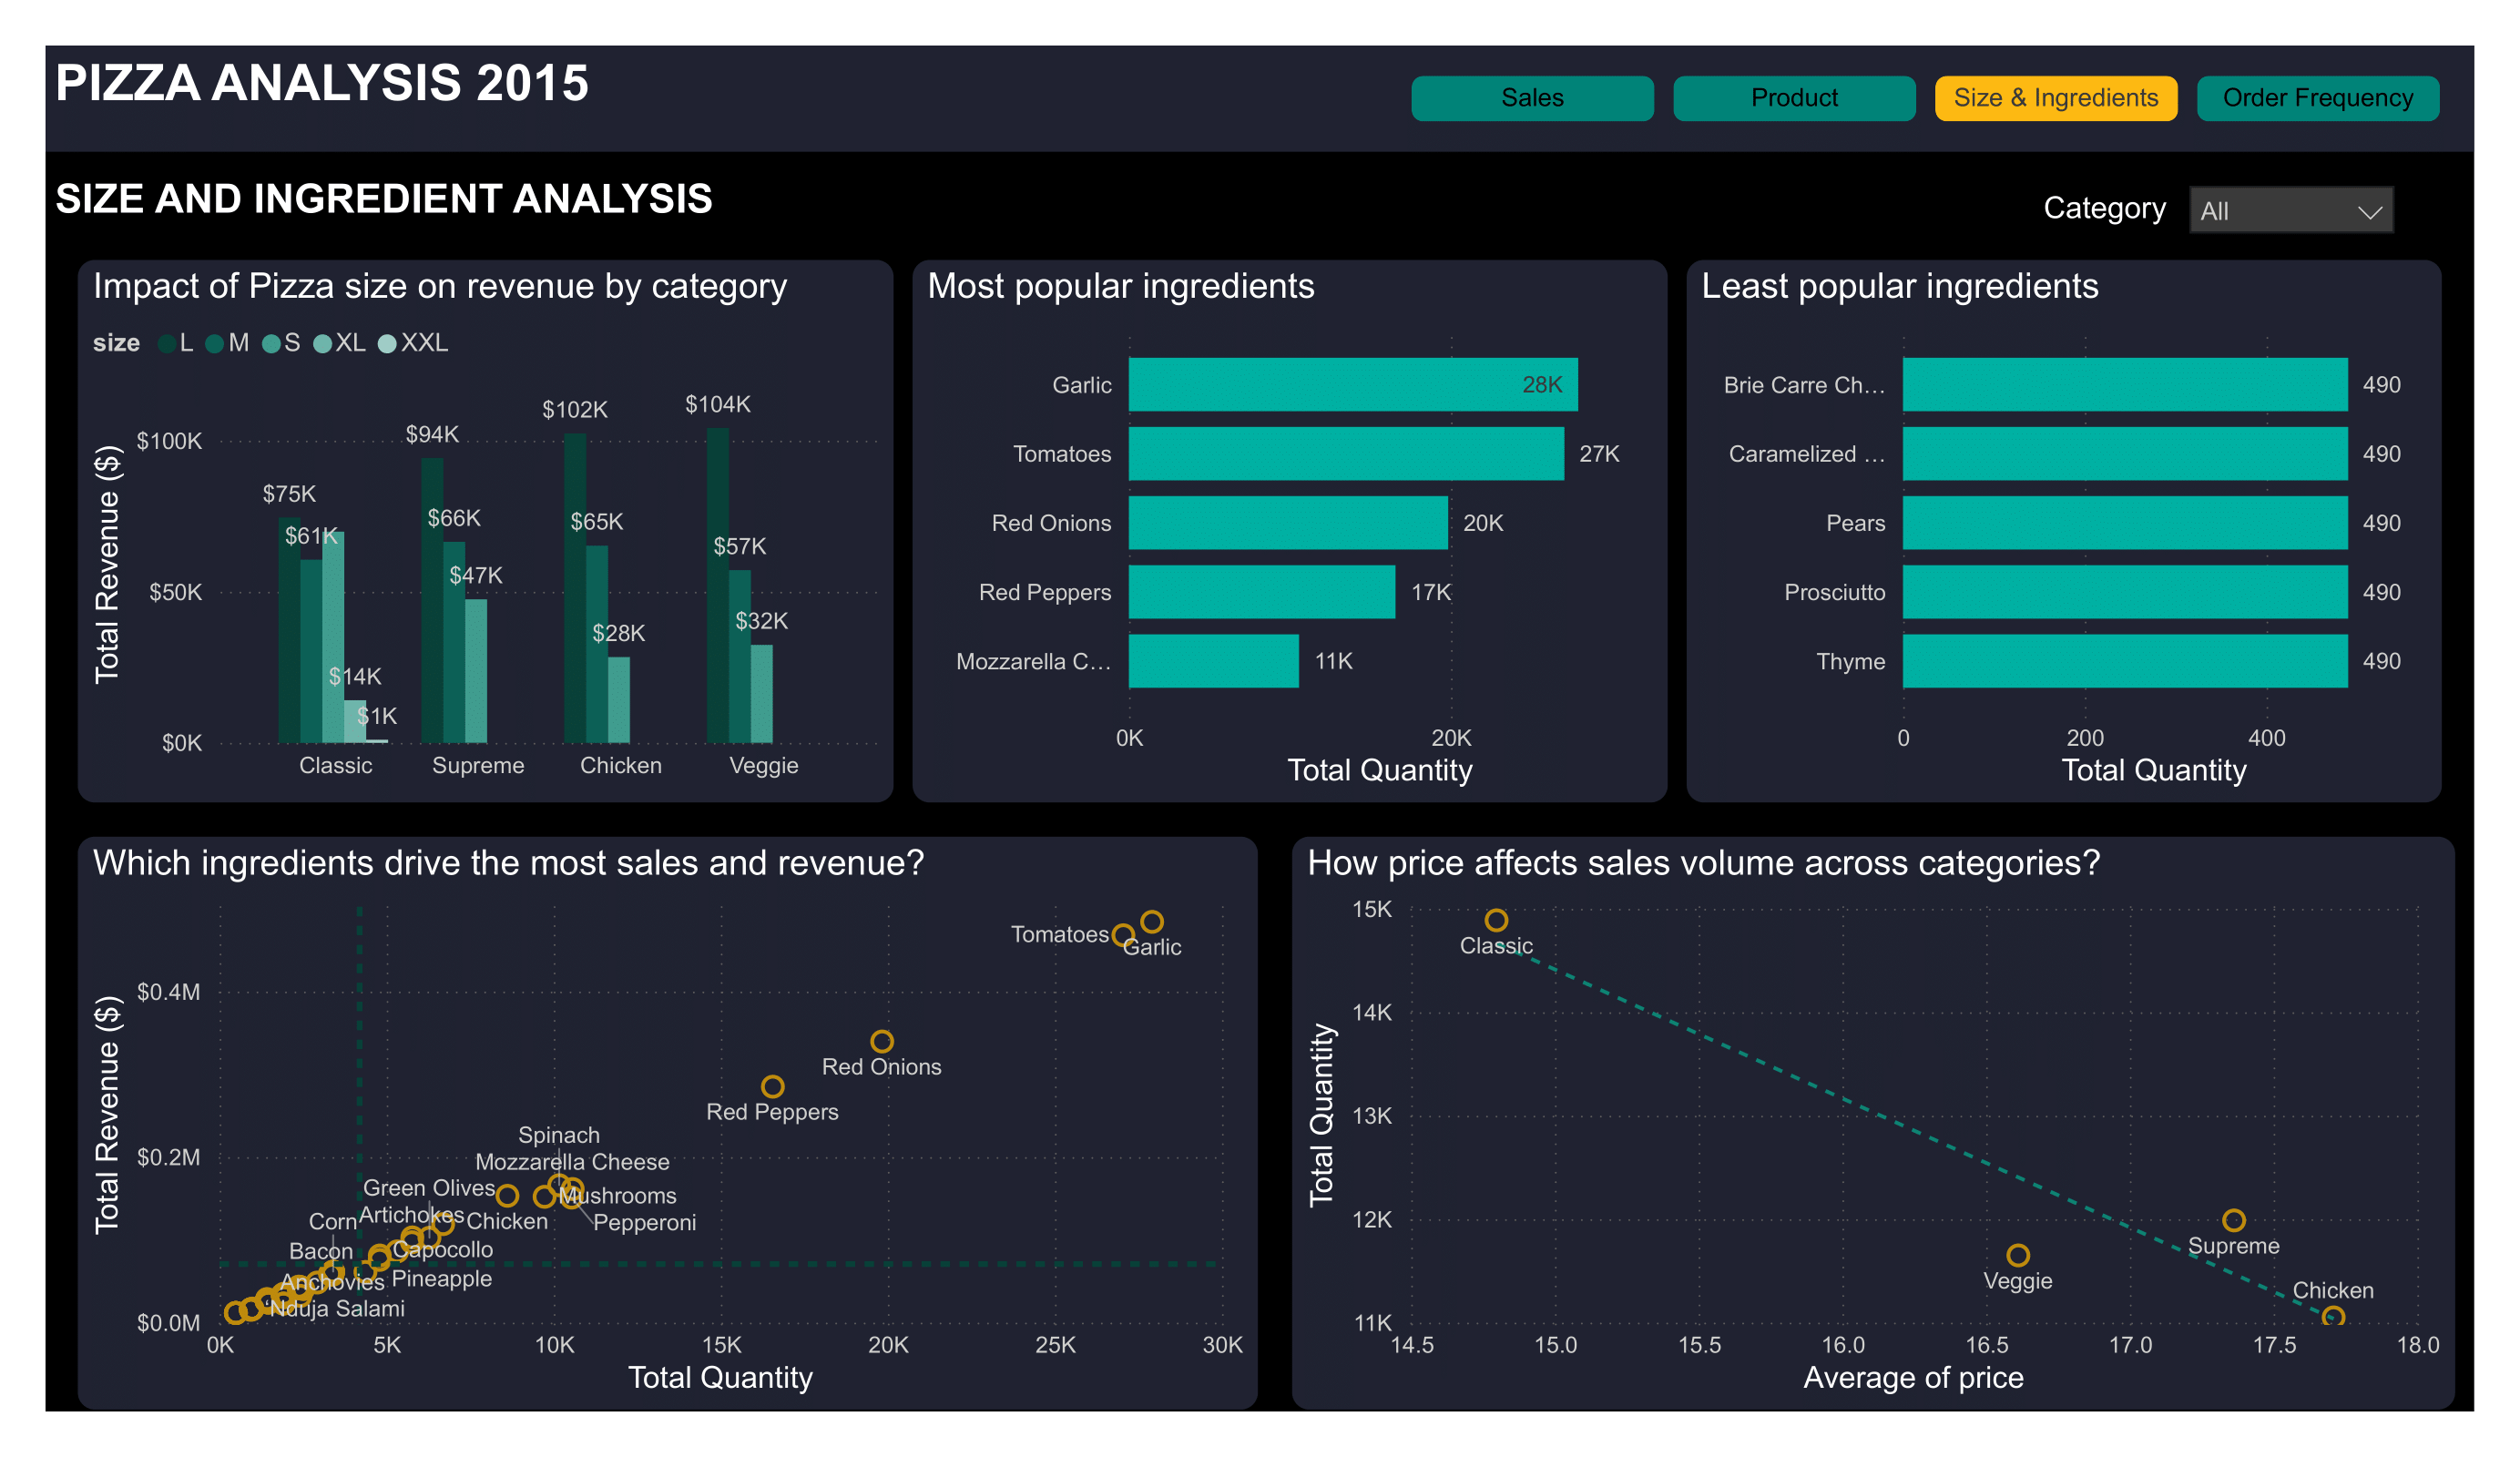

Layout of this report page (visuals, bound fields, positions):
{"tool":"powerbi","page":{"name":"Size & Ingredients","canvas":[1280,720],"ordinal":2},"visuals":[{"type":"barChart","title":"Most popular ingredients","fields":{"Y":["_Measures.Total Quantity"],"Category":["Ingredient dim.ingredients"]},"box":[456,112,400,288],"z":0},{"type":"slicer","fields":{"Values":["data_pizza.category"]},"box":[1120,64,128,48],"z":1000},{"type":"barChart","title":"Least popular ingredients","fields":{"Y":["_Measures.Total Quantity"],"Category":["Ingredient dim.ingredients"]},"box":[864,112,400,288],"z":2000},{"type":"textbox","box":[0,0,1280,56],"z":3000},{"type":"clusteredColumnChart","title":"Impact of Pizza size on revenue by category","fields":{"Series":["data_pizza.size"],"Category":["data_pizza.category"],"Y":["_Measures.Total Revenue"]},"box":[16,112,432,288],"z":4000},{"type":"textbox","box":[0,64,384,40],"z":5000},{"type":"textbox","box":[1048,72,80,32],"z":6000},{"type":"scatterChart","title":"Which ingredients drive the most sales and revenue?","fields":{"Y":["_Measures.Total Revenue"],"X":["_Measures.Total Quantity"],"Series":["Ingredient dim.ingredients"]},"box":[16,416,624,304],"z":7000},{"type":"scatterChart","title":"How price affects sales volume across categories?","fields":{"Series":["data_pizza.category"],"X":["Avg(data_pizza.price)"],"Y":["_Measures.Total Quantity"]},"box":[656,416,615,304],"z":8000},{"type":"pageNavigator","box":[720,16,544,24],"z":9000}]}

Visuals, with their boxes on the page's 1280x720 design canvas (x1, y1, x2, y2). These are canvas units, not pixel positions in the 2520x1457 screenshot, which may show the page scaled, cropped or inside an application window:
"Most popular ingredients" barChart: 456/112/856/400
slicer - data_pizza.category: 1120/64/1248/112
"Least popular ingredients" barChart: 864/112/1264/400
textbox: 0/0/1280/56
"Impact of Pizza size on revenue by category" clusteredColumnChart: 16/112/448/400
textbox: 0/64/384/104
textbox: 1048/72/1128/104
"Which ingredients drive the most sales and revenue?" scatterChart: 16/416/640/720
"How price affects sales volume across categories?" scatterChart: 656/416/1271/720
pageNavigator: 720/16/1264/40
